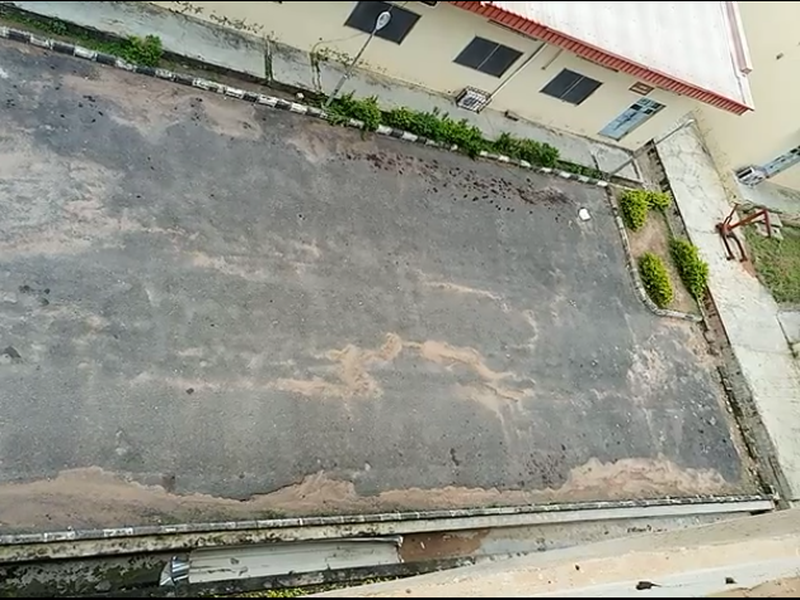five: (517, 138, 643, 306)
four: (383, 106, 488, 304)
three: (231, 71, 339, 293)
two: (75, 32, 194, 265)
